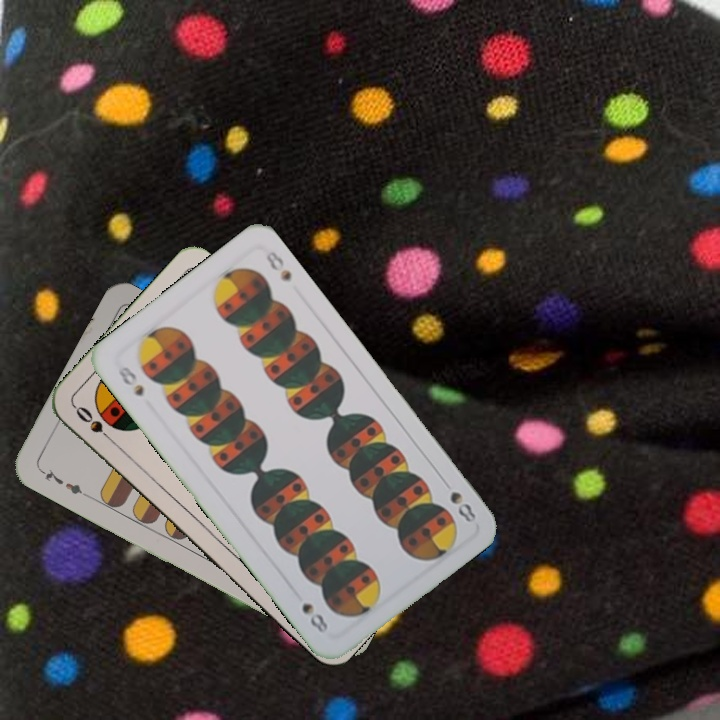E7: (36, 464, 89, 498)
S8: (437, 474, 479, 525), (113, 362, 146, 400)
SO: (71, 402, 118, 447)
